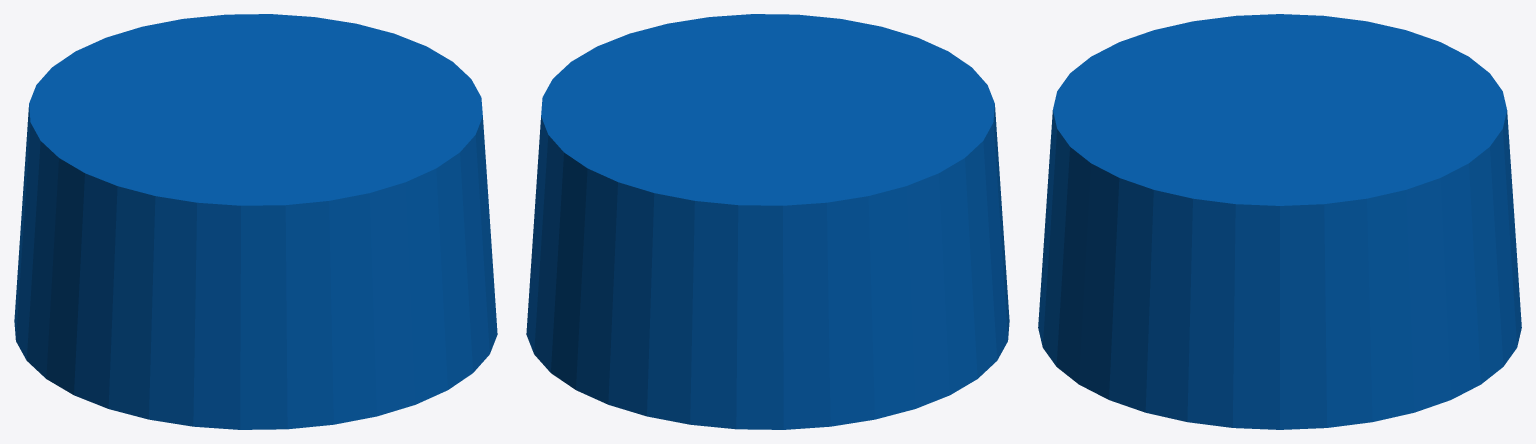
The model's file is helicopterProjectile.fbx.
3 views of the same model, side by side, from view 1: azimuth 30°, elevation 25°; view 2: azimuth 150°, elevation 25°; view 3: azimuth 270°, elevation 25° (orthographic).
Visible parts, largest first — view 1: Cylinder; view 2: Cylinder; view 3: Cylinder.
Part boxes in pixels (x1=…): Cylinder: x1=14, y1=14, x2=497, y2=429; Cylinder: x1=526, y1=14, x2=1009, y2=429; Cylinder: x1=1038, y1=14, x2=1521, y2=429.
Bounding box in the file's own units: 200 × 99.34 × 200.
